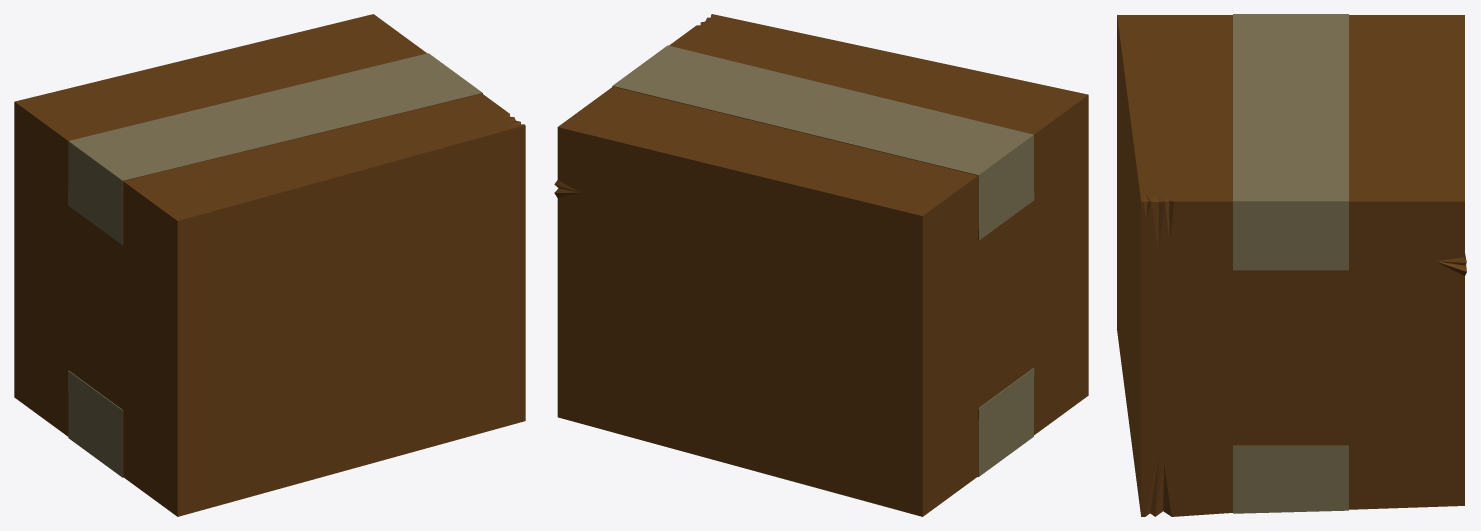
The model's file is Caixa 1.fbx.
3 views of the same model, side by side, from view 1: azimuth 30°, elevation 25°; view 2: azimuth 150°, elevation 25°; view 3: azimuth 270°, elevation 25° (orthographic). The views are drawn at different scales.
Parts seen in each view (by area): view 1: Cube.007; view 2: Cube.007; view 3: Cube.007.
Boxes of the visible parts, x1,y1,x2,y2 form: Cube.007: (14,14,525,516); Cube.007: (554,14,1088,516); Cube.007: (1117,14,1466,516).
Size of the model in its own units: 6.13 by 4.8 by 4.81.
